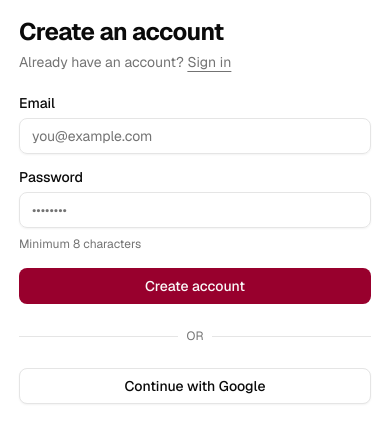
Scenario: SignUpPage › shows confirmation message after successful sign-up
In the field labelled "Email": x=195, y=136 [19,118,371,154], type "new@example.com"
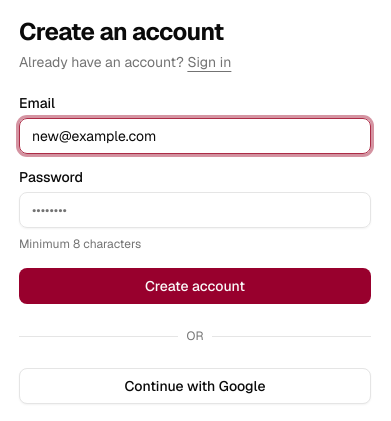
In the password field labelled "Password": x=195, y=210 [19,192,371,228], type "password123"
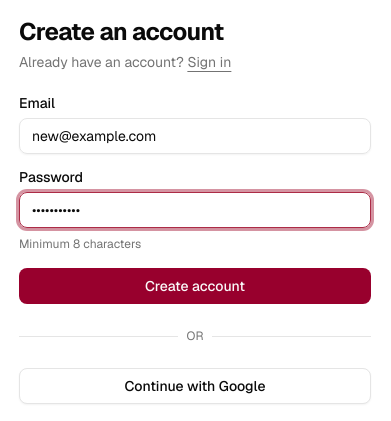
Click the button "Create account": x=195, y=286 [19,268,371,304]
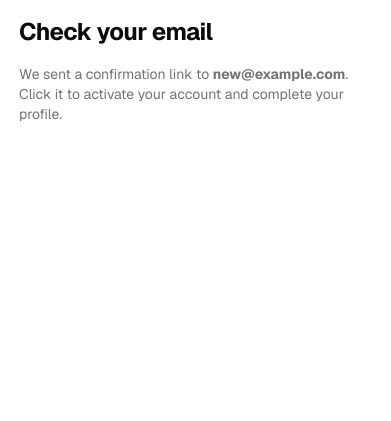
Result: the heading "Check your email" is shown at [19,16,212,47]
